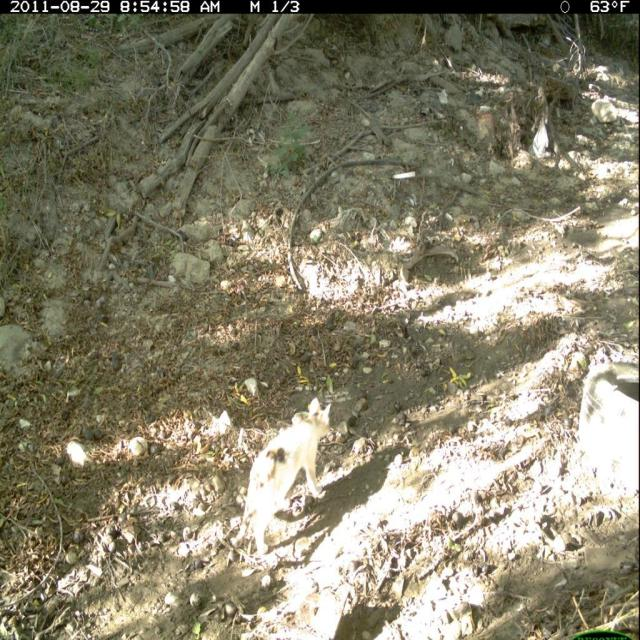cat: (230, 391, 337, 563)
